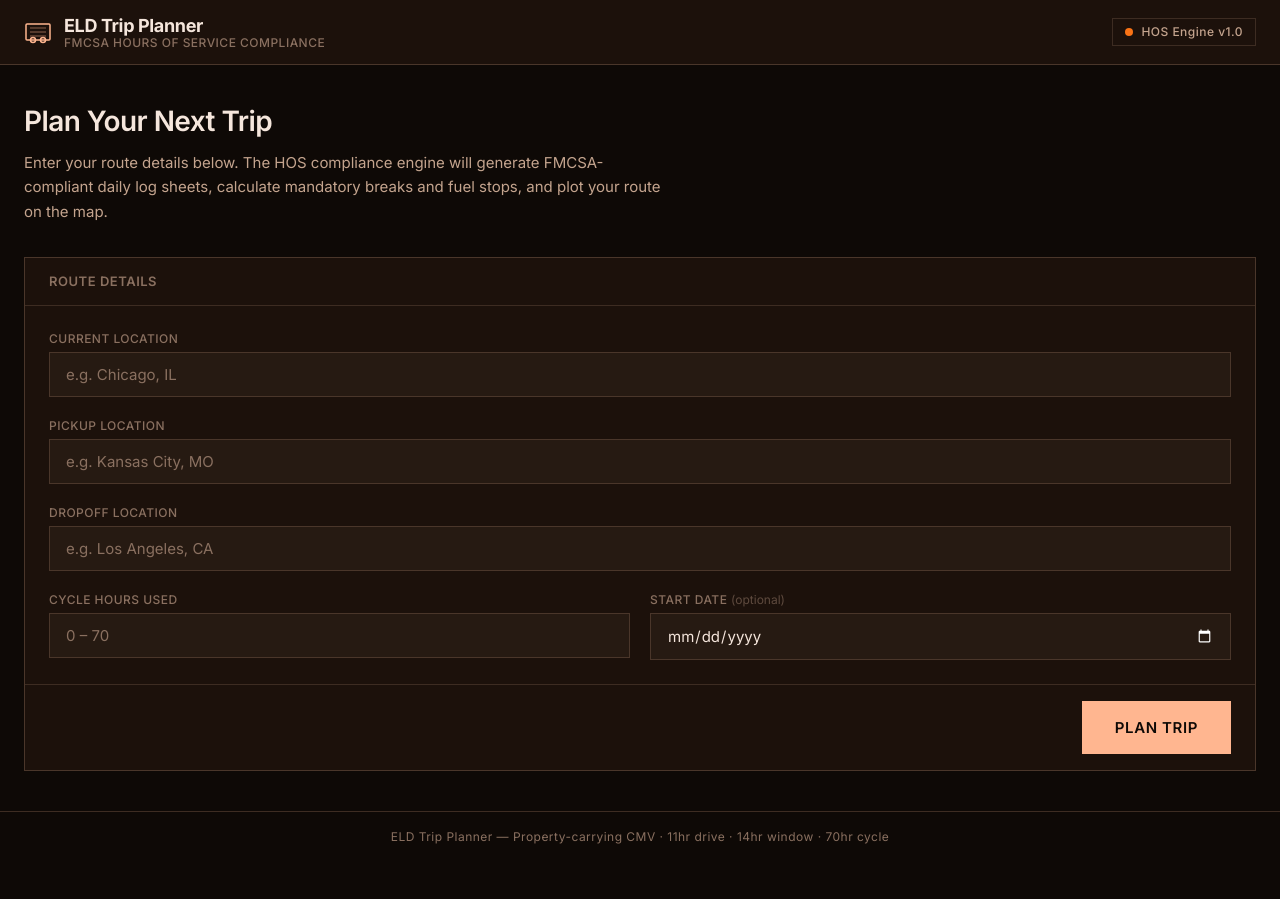
Test case: App › dismissing the error clears it from the banner
Type "Chicago, IL" into the field labelled "Current Location".
click(640, 375); type("Chicago, IL")  # box [49,352,1231,397]
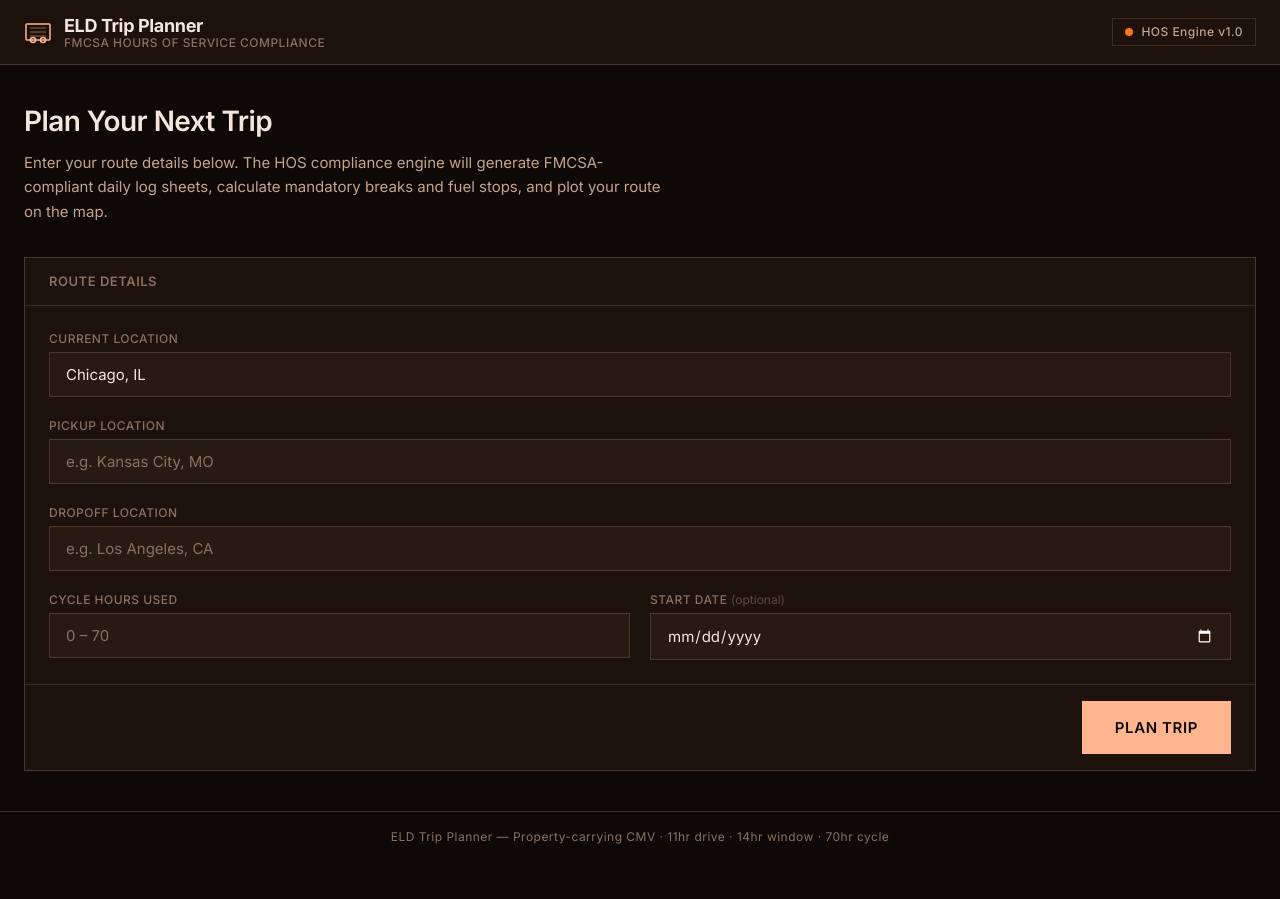
Type "Kansas City, MO" into the field labelled "Pickup Location".
click(640, 462); type("Kansas City, MO")  # box [49,439,1231,484]
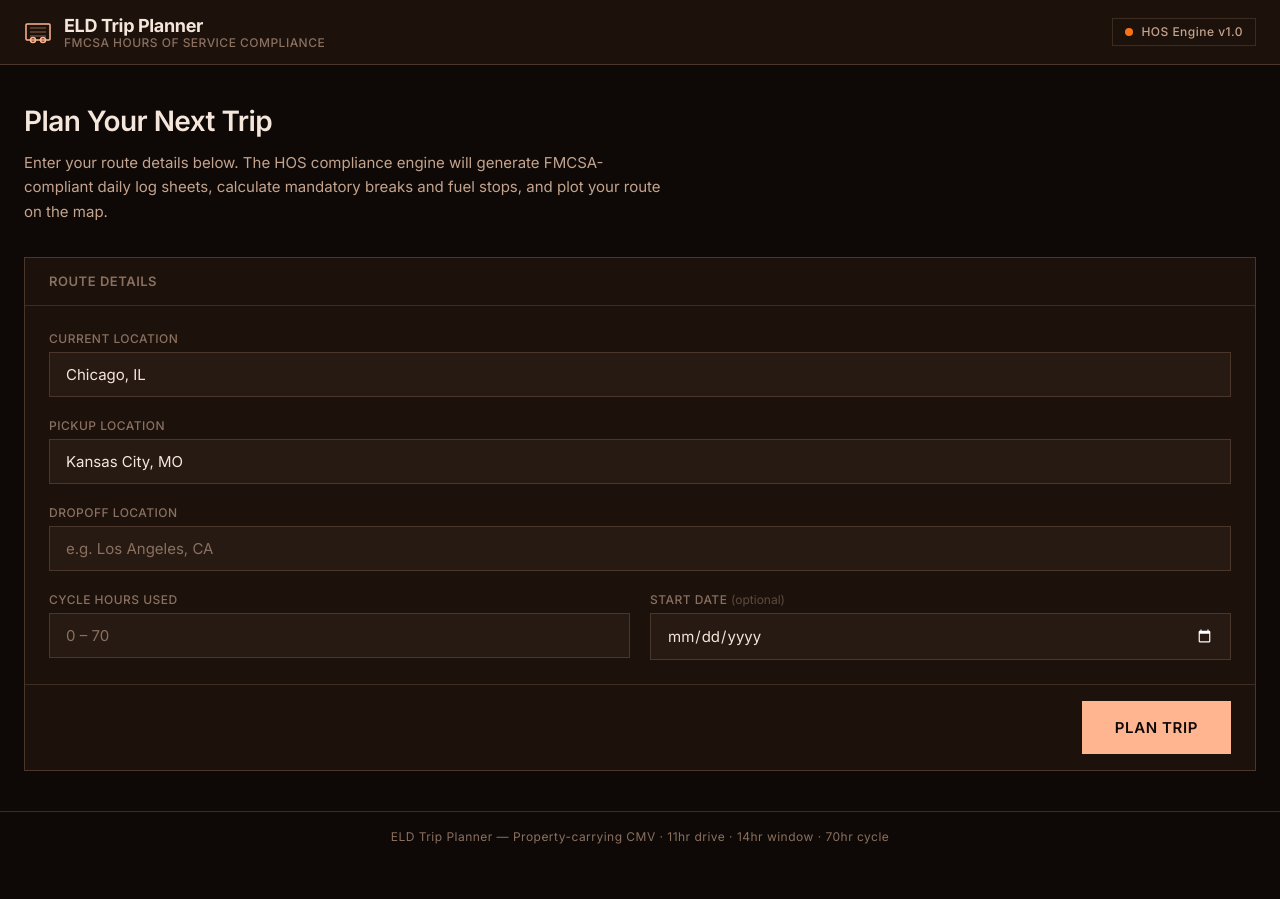
Type "Los Angeles, CA" into the field labelled "Dropoff Location".
click(640, 549); type("Los Angeles, CA")  # box [49,526,1231,571]
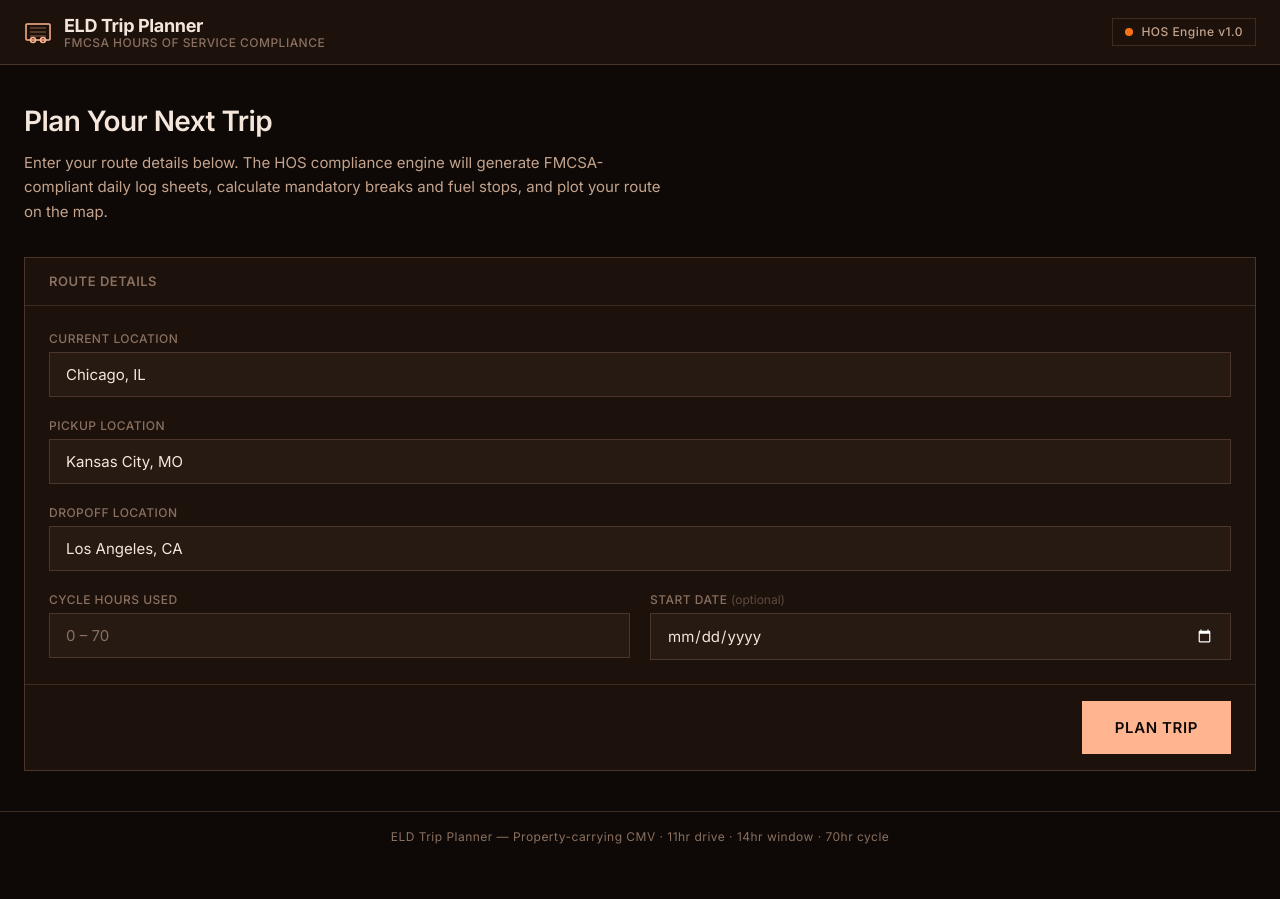
Type "20" into the number field labelled "Cycle Hours Used".
click(340, 636); type("20")  # box [49,613,630,658]
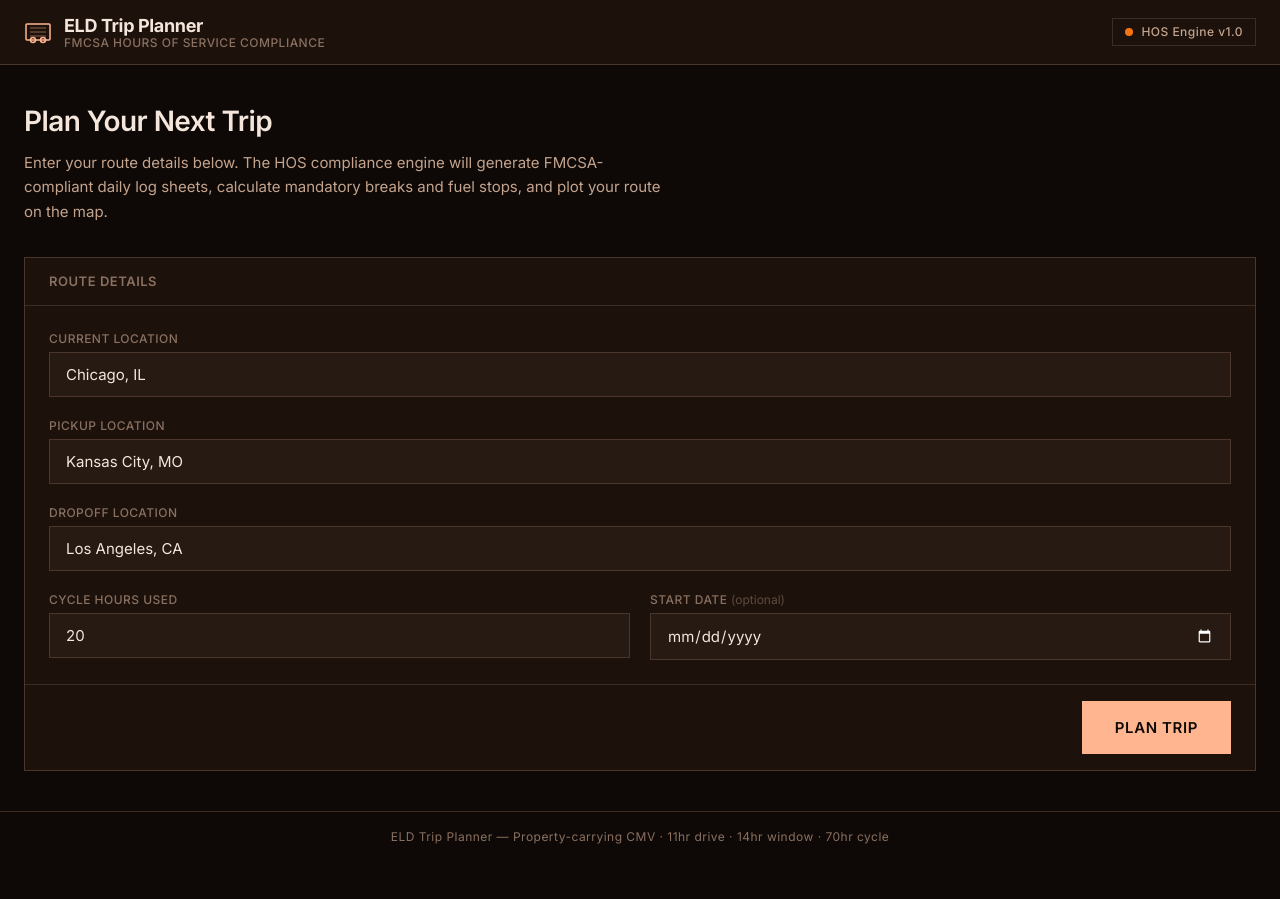
Click the button "Plan Trip".
click(1156, 728)  # box [1082,701,1231,754]
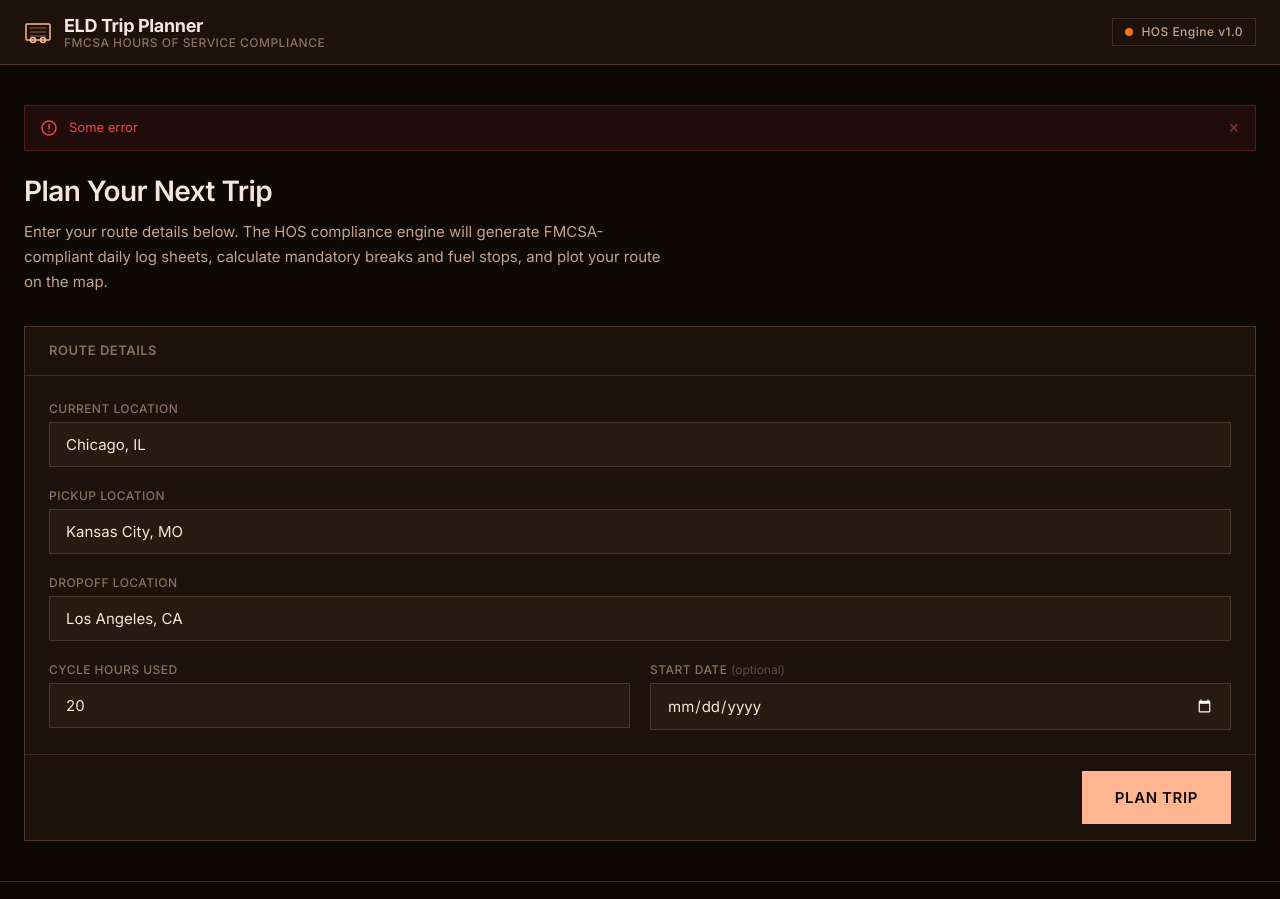
Expected: the text "Some error" is shown, [69,118,138,138]
Click the button named "dismiss error".
click(1234, 128)  # box [1228,119,1239,137]
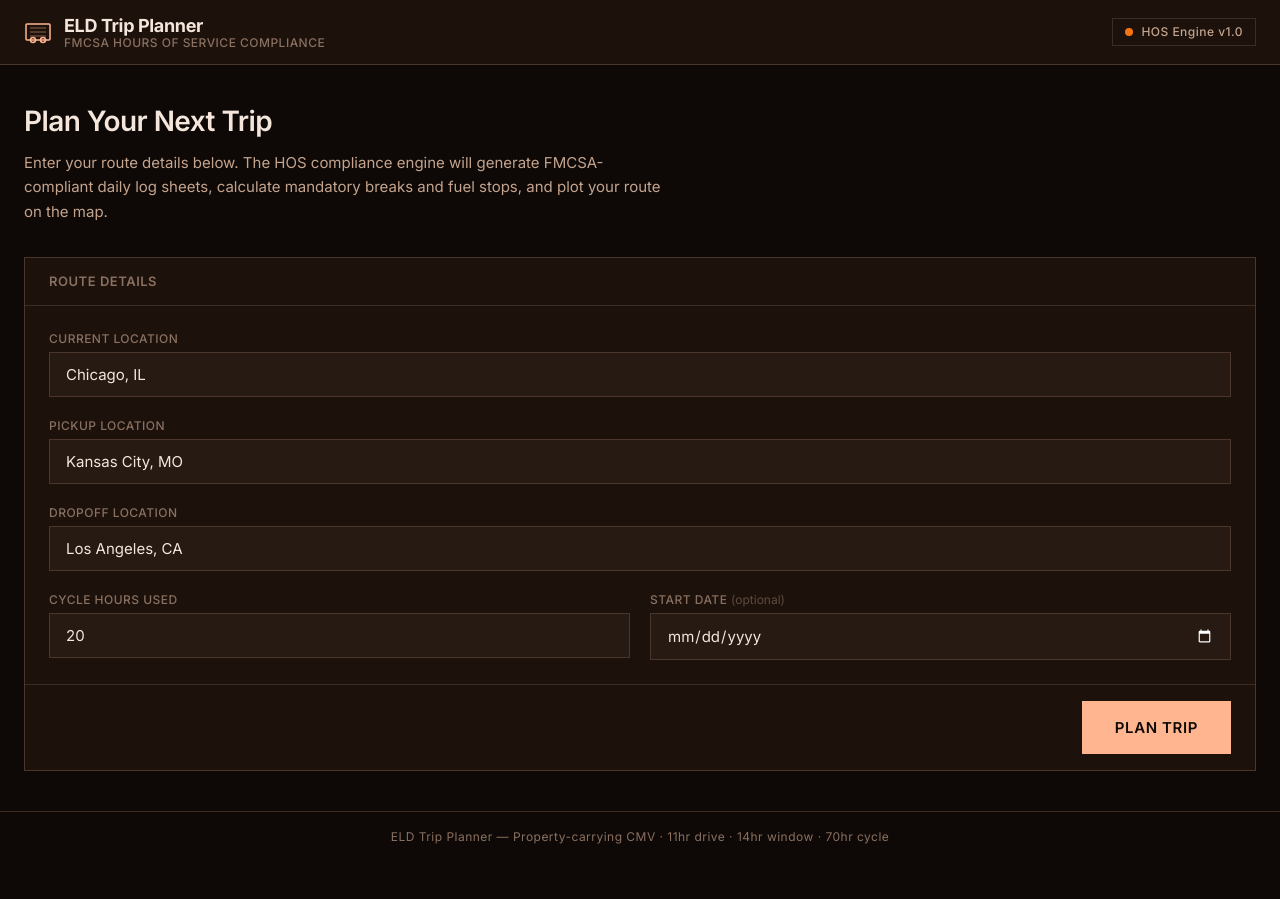
Expected: the text "Some error" is gone
